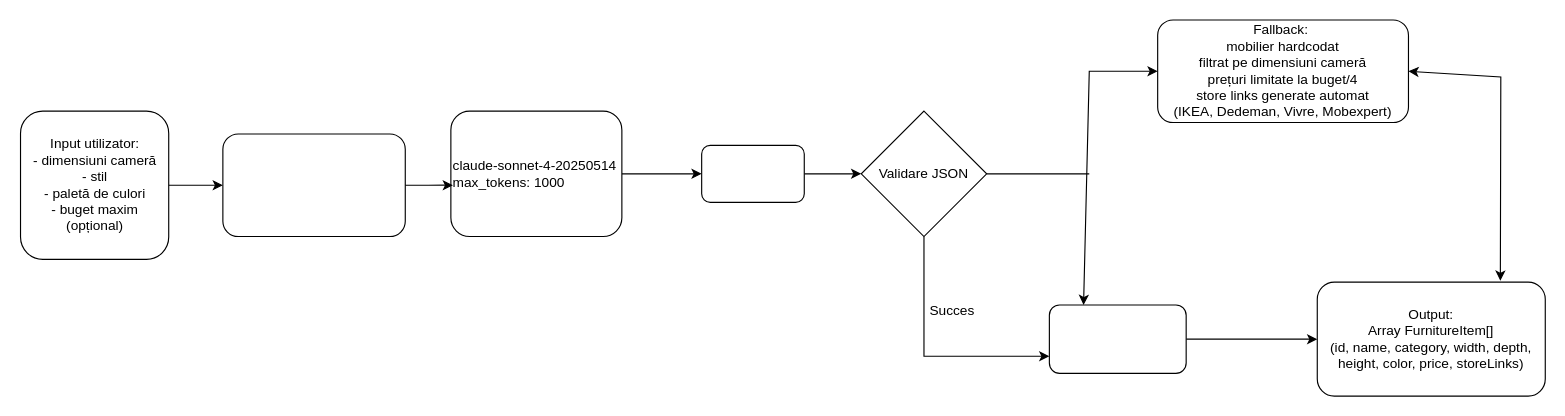
This 1565x416 diagram has some shape labels left out. Each missing label, with the box of its shape:
Construire prompt structurat: (222, 133, 405, 237)
Parse & validare date: (1048, 304, 1186, 373)
Raspuns JSON: (701, 144, 804, 202)
